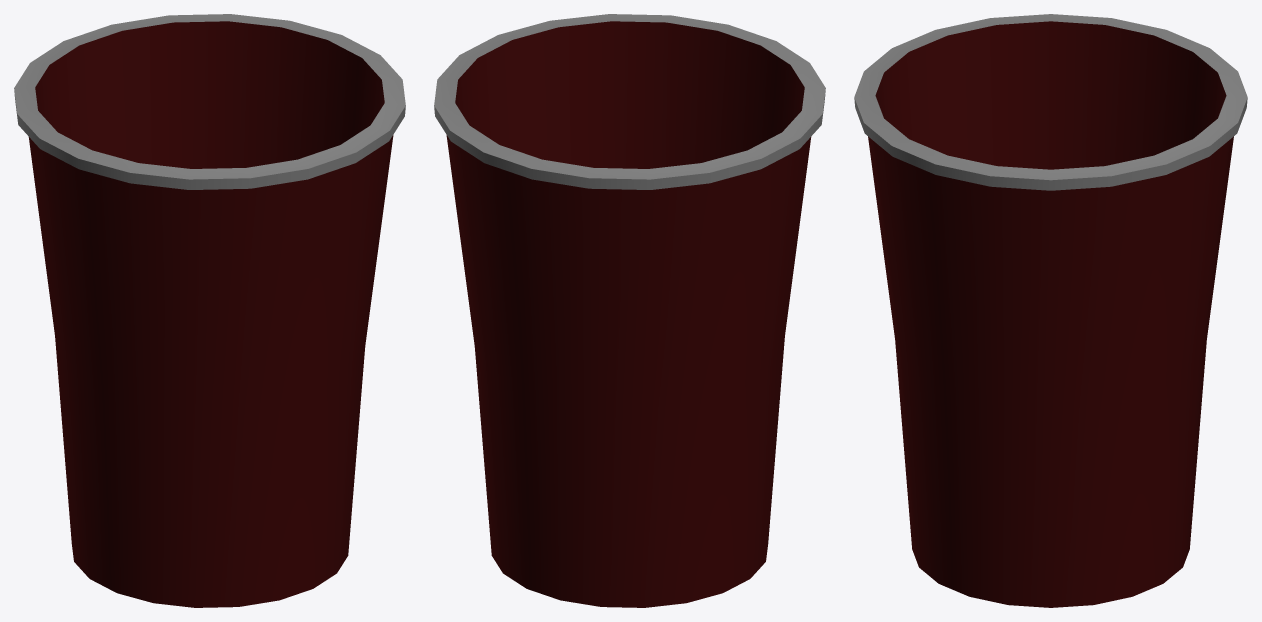
File: cup.fbx
3 renders of one model, left to right at view 1: azimuth 30°, elevation 25°; view 2: azimuth 150°, elevation 25°; view 3: azimuth 270°, elevation 25°, orthographic.
Parts seen in each view (by area): view 1: cup; view 2: cup; view 3: cup.
Part boxes in pixels (left/top/right/bottom): cup: left=14, top=14, right=405, bottom=607; cup: left=434, top=14, right=825, bottom=607; cup: left=854, top=14, right=1247, bottom=607.
Size of the model in its own units: 4.47 by 5.69 by 4.47.
